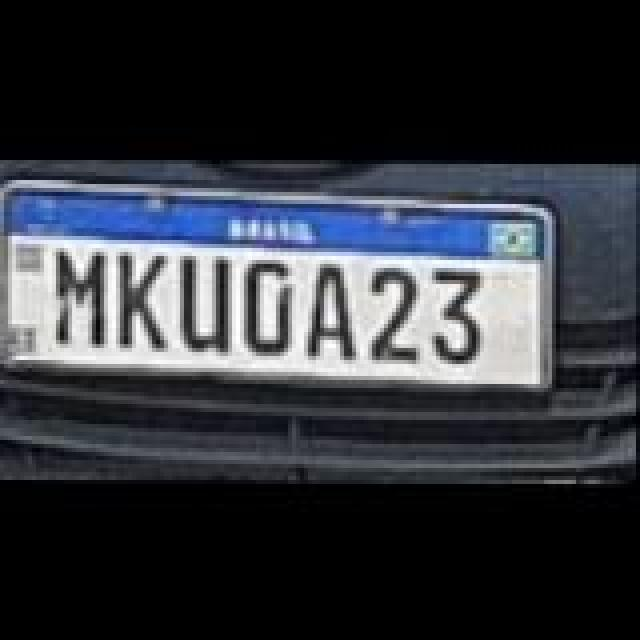2: (374, 266, 422, 362)
3: (432, 266, 484, 362)
A: (312, 262, 356, 358)
D: (250, 262, 298, 358)
K: (120, 254, 172, 354)
M: (56, 248, 108, 352)
U: (182, 256, 230, 356)
